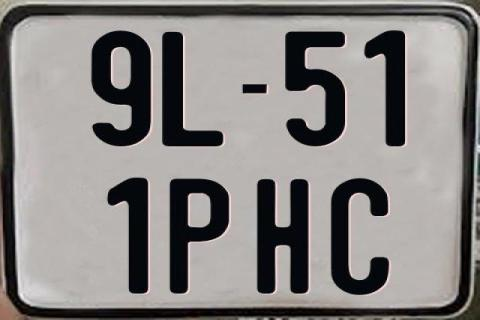0: (284, 30, 350, 146), (88, 28, 152, 146), (363, 30, 409, 148), (104, 176, 150, 294)
C: (331, 177, 389, 297)
H: (254, 177, 306, 293)
L: (161, 32, 227, 150)
P: (170, 178, 232, 298)
